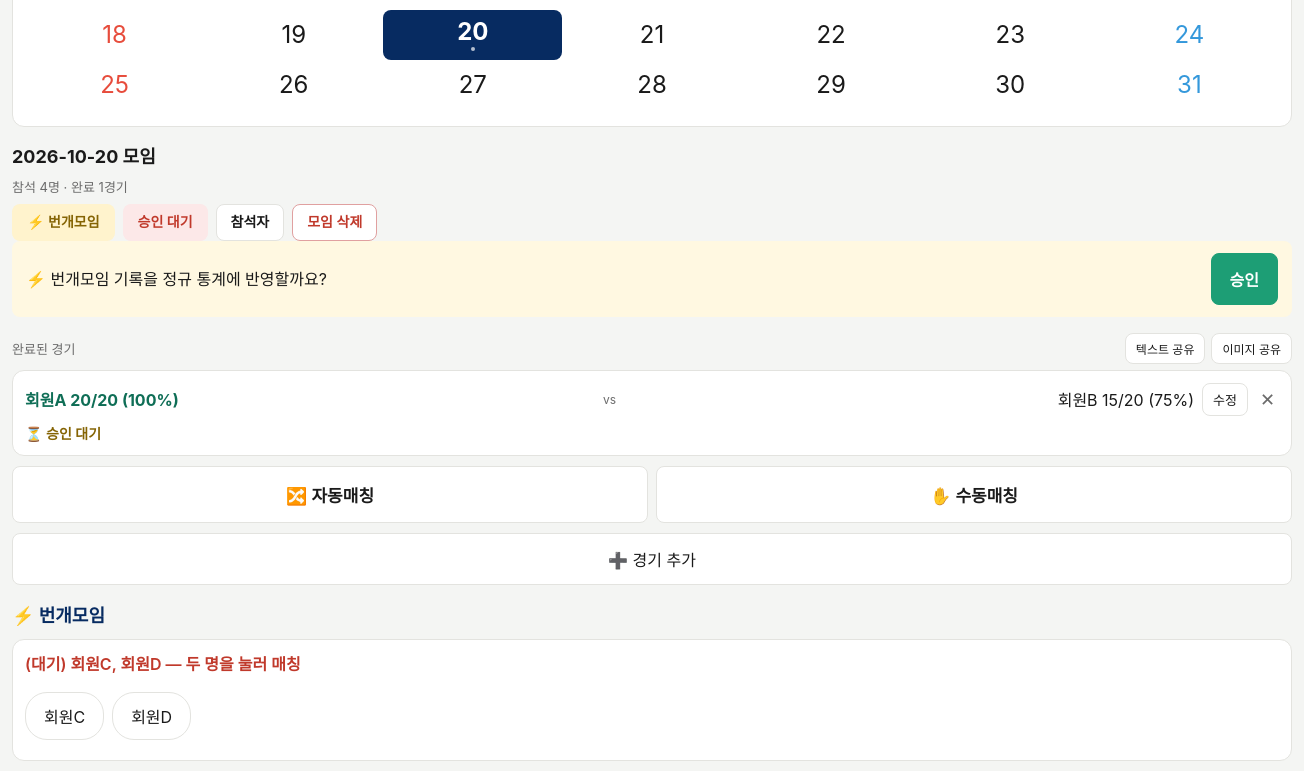
번개모임 ➕ 경기 추가 — 시나리오 1: 첫 경기 후 같은 사람 재선택 › 완료된 경기 참가자끼리(회원A-회원B) 다시 대진을 만들 수 있다
(page scrolled)
What coordinates should you click on to do the following:
click the button "➕ 경기 추가"
I would click on:
 (652, 559)
Its box is left=12, top=533, right=1292, bottom=585.
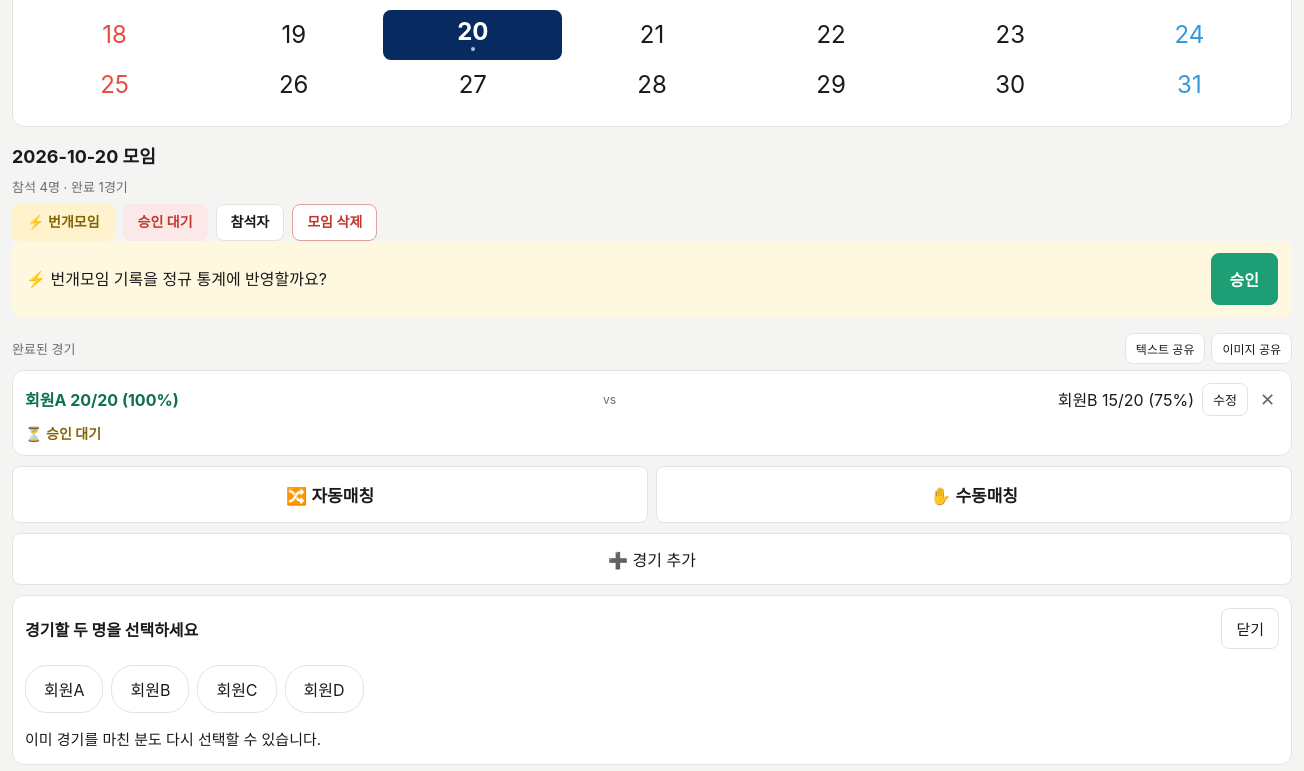
What coordinates should you click on to do the following:
click the button "회원A"
I would click on:
 (64, 689)
Its box is left=25, top=665, right=104, bottom=713.
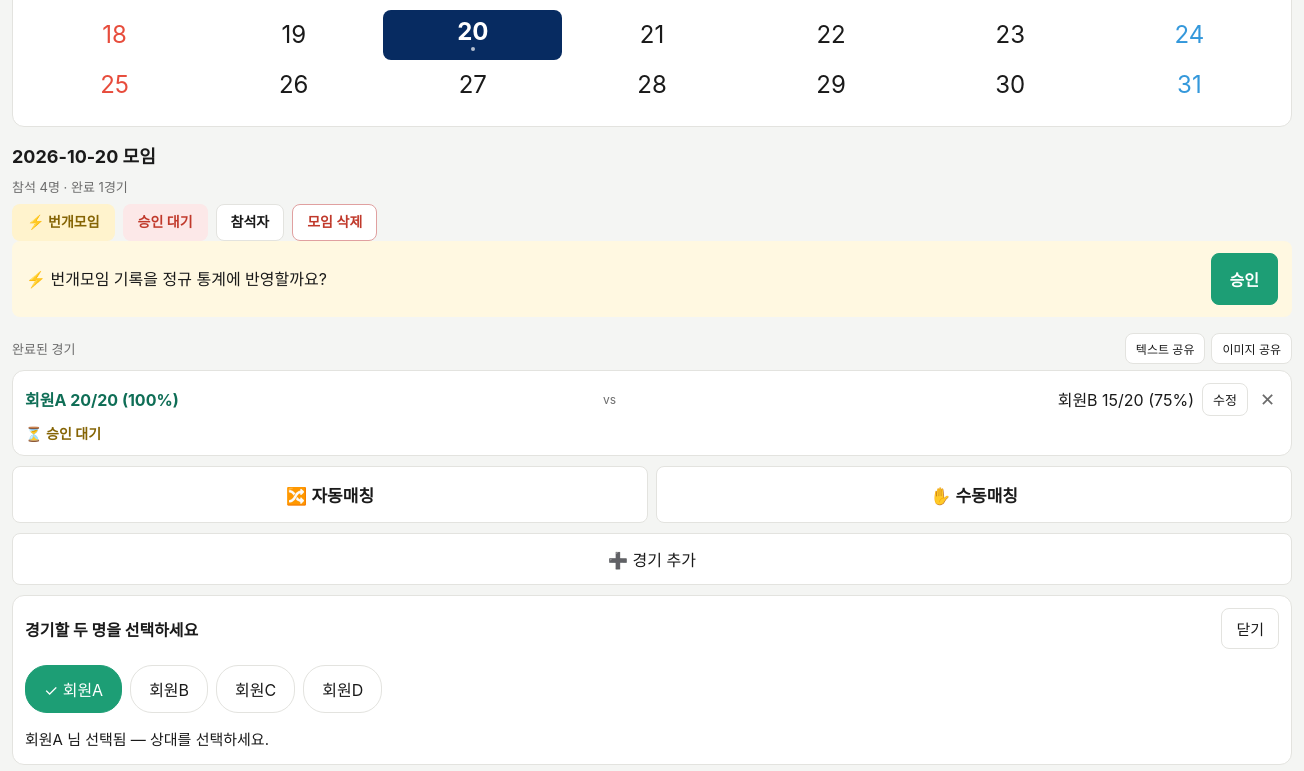
What coordinates should you click on to do the following:
click the button "회원B"
I would click on:
 (169, 689)
Its box is left=130, top=665, right=208, bottom=713.
(page scrolled)
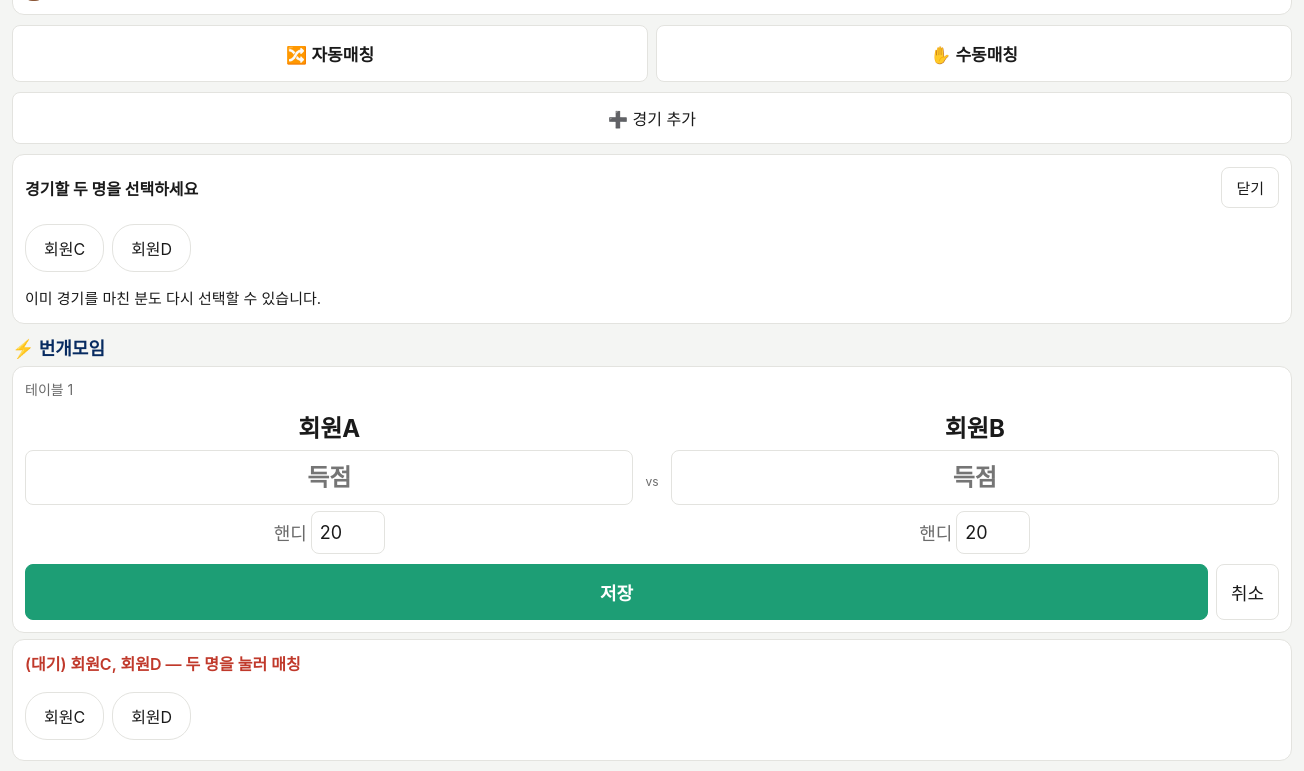
Check: the text "테이블 1" is shown, box left=25, top=381, right=73, bottom=398
Check: the number of fields with placeholder "득점" is 2, box left=25, top=450, right=634, bottom=505; left=670, top=450, right=1279, bottom=505
